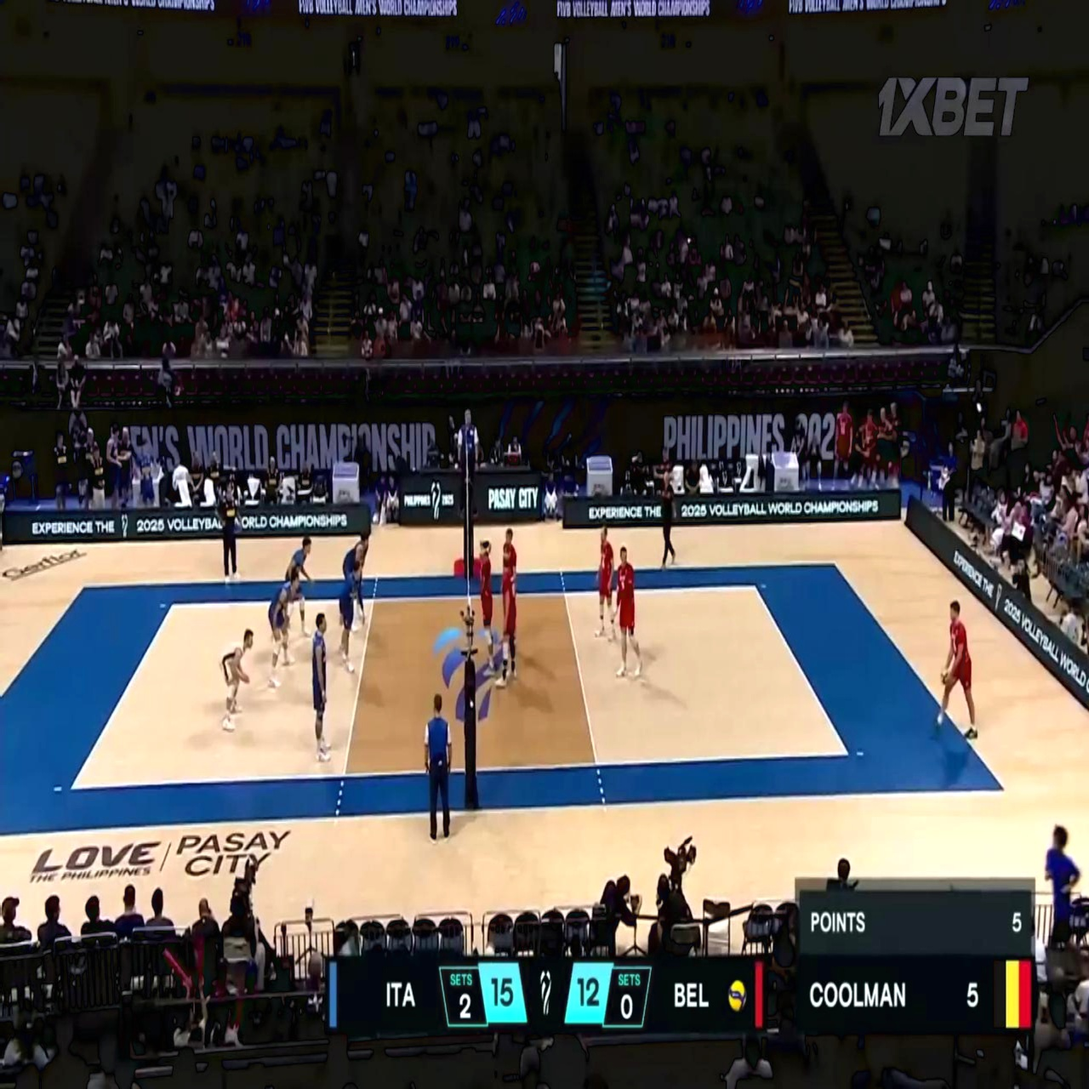ball: (940, 667, 949, 684)
